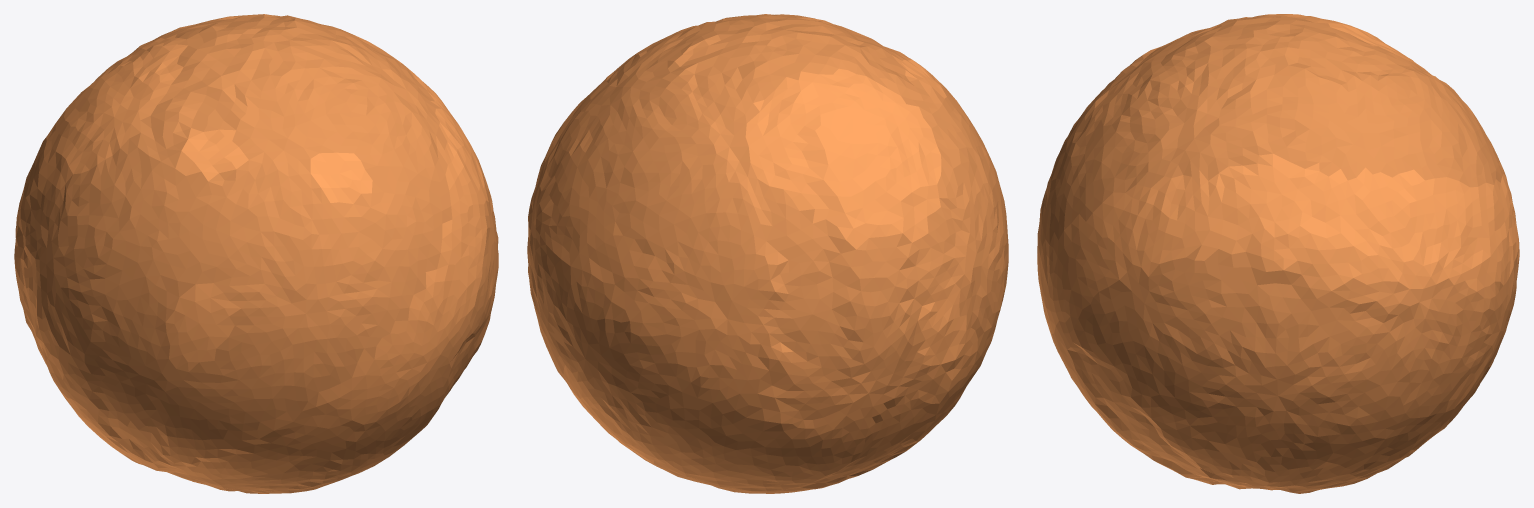
Rendered from Venus.gltf.
The picture shows the model from 3 angles, left to right: view 1: azimuth 30°, elevation 25°; view 2: azimuth 150°, elevation 25°; view 3: azimuth 270°, elevation 25°; orthographic projection.
Parts seen in each view (by area): view 1: Icosphere; view 2: Icosphere; view 3: Icosphere.
Part boxes in pixels (x1=…): Icosphere: x1=14, y1=14, x2=498, y2=493; Icosphere: x1=527, y1=14, x2=1008, y2=493; Icosphere: x1=1037, y1=14, x2=1519, y2=493.
Size of the model in its own units: 7.7 by 7.64 by 7.68.
